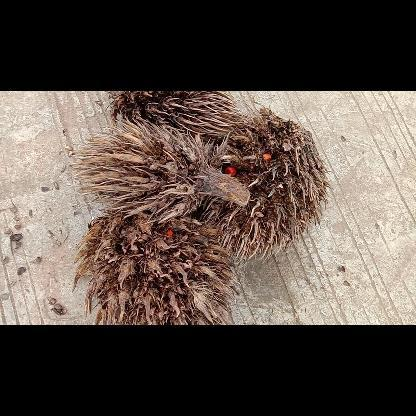Janjang kosong: (74, 117, 250, 225), (72, 214, 242, 324), (222, 107, 332, 260), (105, 92, 244, 138)
